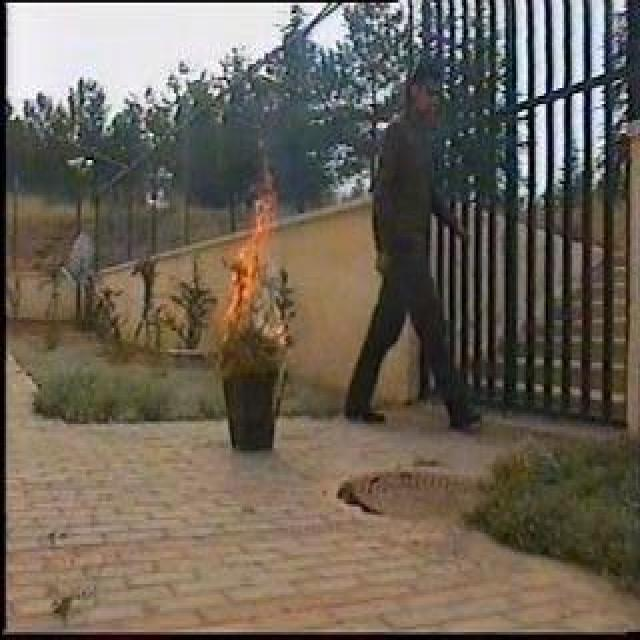fire: (223, 183, 276, 335)
